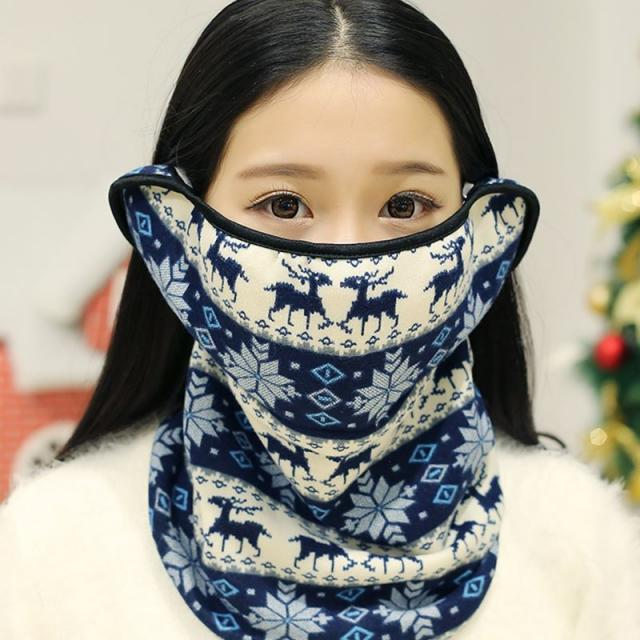mask: (208, 71, 467, 396)
